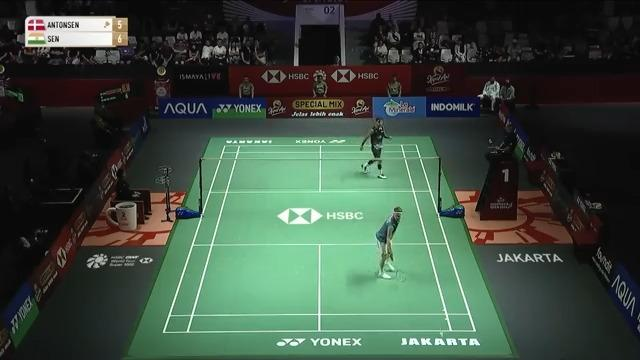Shuttlecock: (438, 329, 448, 340)
